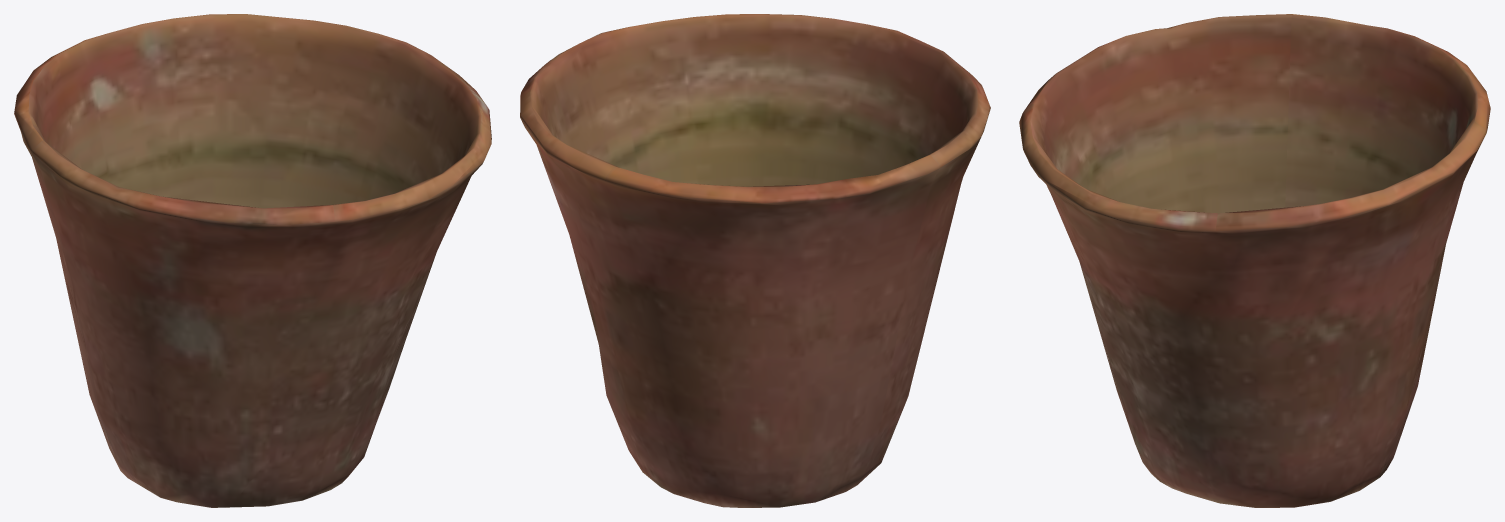
The model's file is chau-cay.glb.
3 renders of one model, left to right at view 1: azimuth 30°, elevation 25°; view 2: azimuth 150°, elevation 25°; view 3: azimuth 270°, elevation 25°, orthographic.
Visible parts, largest first — view 1: planter_pot_clay; view 2: planter_pot_clay; view 3: planter_pot_clay.
Part boxes in pixels (<box>): planter_pot_clay: <box>14,14,491,507</box>; planter_pot_clay: <box>520,14,990,507</box>; planter_pot_clay: <box>1019,14,1490,507</box>.
Bounding box in the file's own units: 0.9971 × 0.8339 × 0.9905.
Materials: 1 (1 with a texture image).
